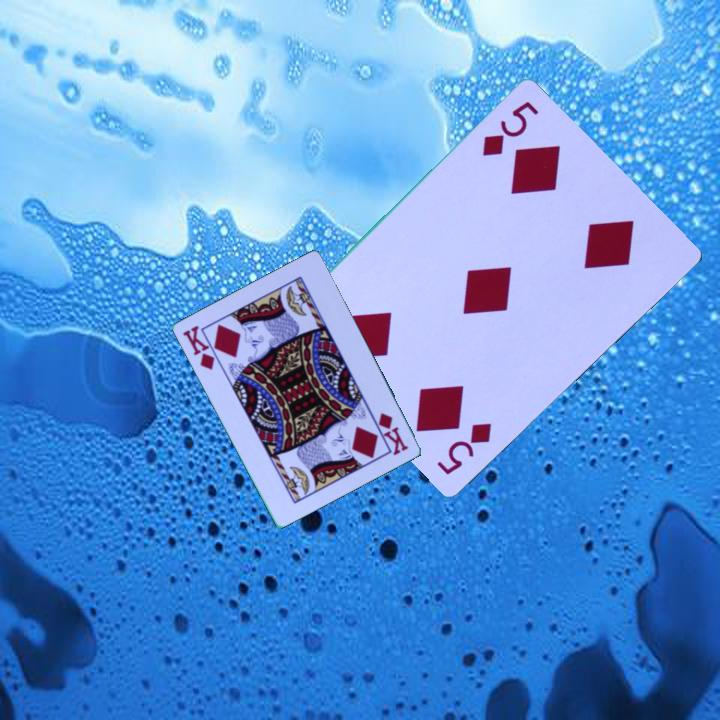5d: (478, 97, 541, 159), (433, 418, 495, 477)
Kd: (179, 322, 224, 373), (374, 409, 411, 458)
